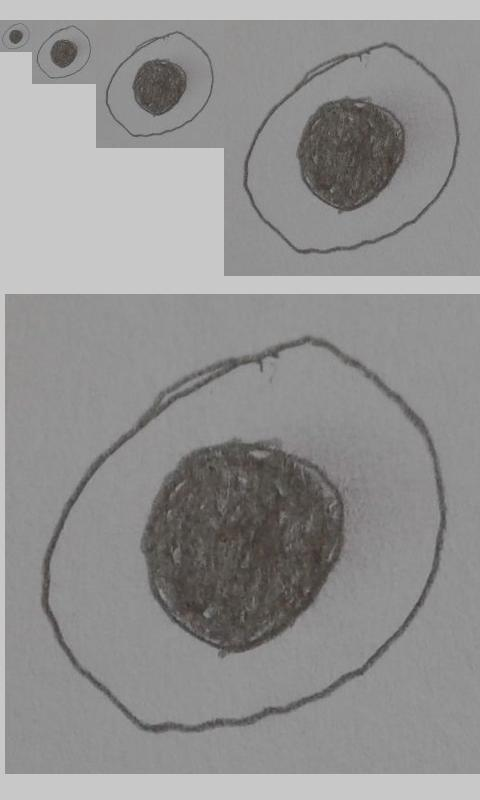radio_button: (40, 334, 451, 735), (241, 39, 462, 258), (105, 30, 214, 138), (36, 24, 93, 80), (1, 22, 30, 50)
